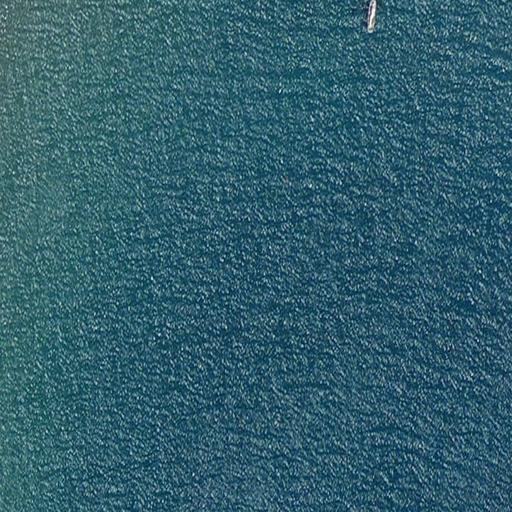ship: (365, 1, 378, 35)
